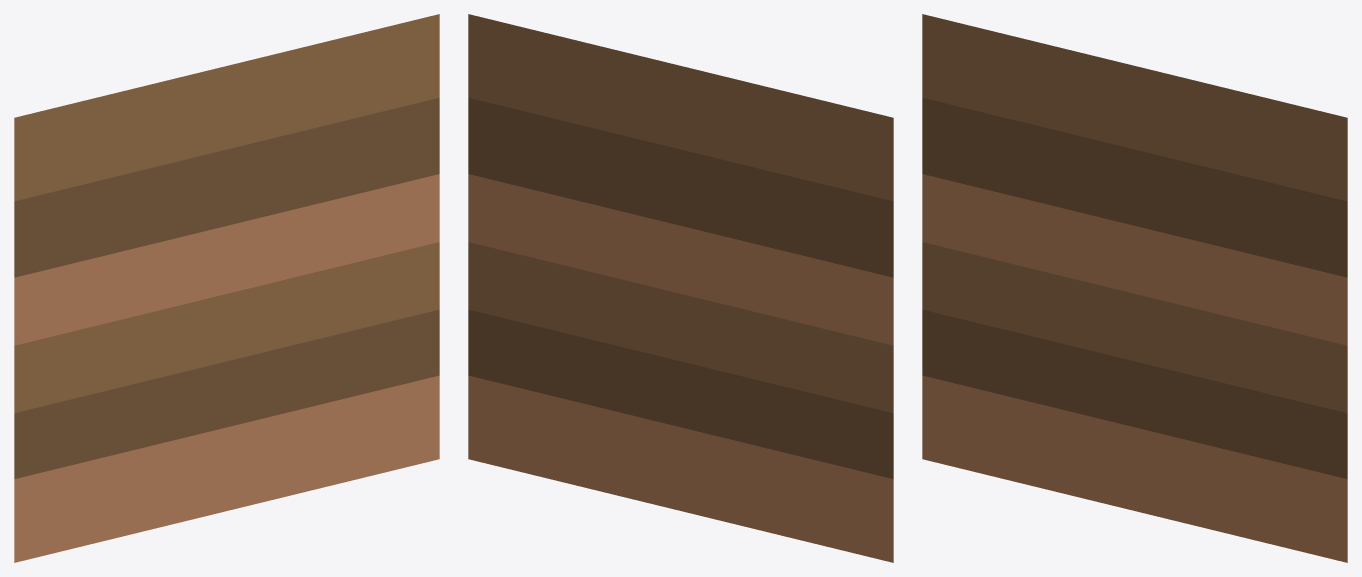
The model's file is Cube_Grass_SideCenter_Tall.glb.
3 renders of one model, left to right at view 1: azimuth 30°, elevation 25°; view 2: azimuth 150°, elevation 25°; view 3: azimuth 330°, elevation 25°, orthographic.
Visible parts, largest first — view 1: Cube_Grass_SideCenter_Tall; view 2: Cube_Grass_SideCenter_Tall; view 3: Cube_Grass_SideCenter_Tall.
Part boxes in pixels (box(x1,y1,x2,y2)): Cube_Grass_SideCenter_Tall: box(14, 14, 439, 562); Cube_Grass_SideCenter_Tall: box(468, 14, 893, 562); Cube_Grass_SideCenter_Tall: box(922, 14, 1347, 562).
Bounding box in the file's own units: 2 × 2 × 3.37e-07.
